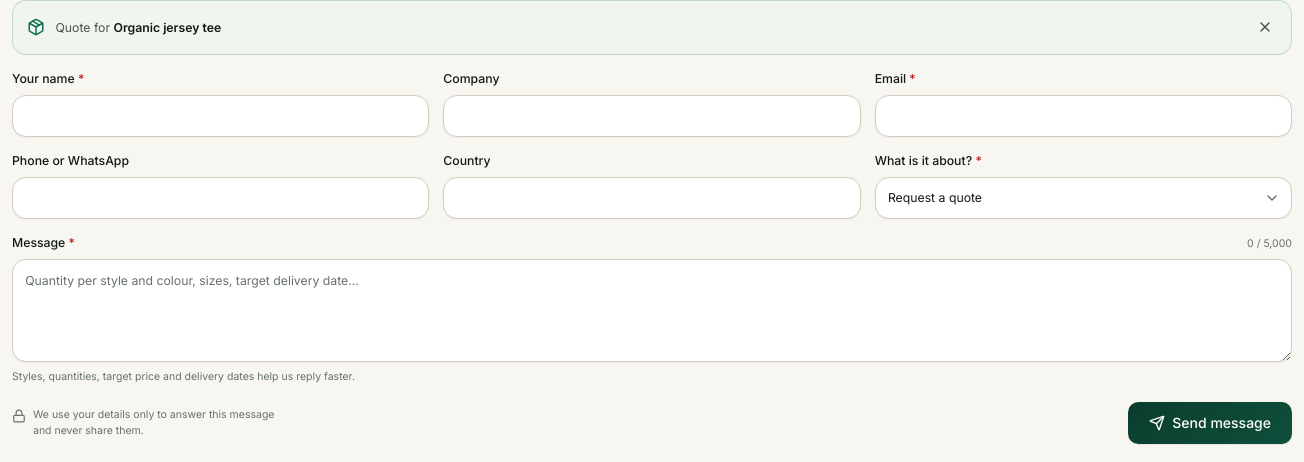
it: ContactForm › sends the message and shows the reference
expect the text "Organic jersey tee" is shown: met, box [114, 20, 221, 35]
Type "Anna Berg" into the field labelled "Your name *" at (221, 116), box [12, 95, 429, 137]
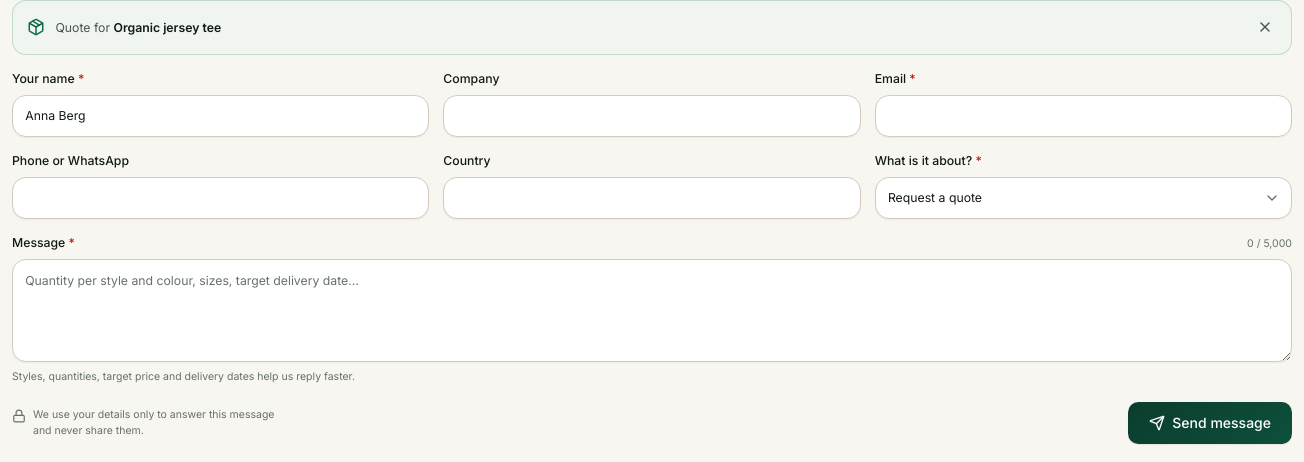
Type "anna@example.com" into the field labelled "Email *" at (1083, 116), box [875, 95, 1292, 137]
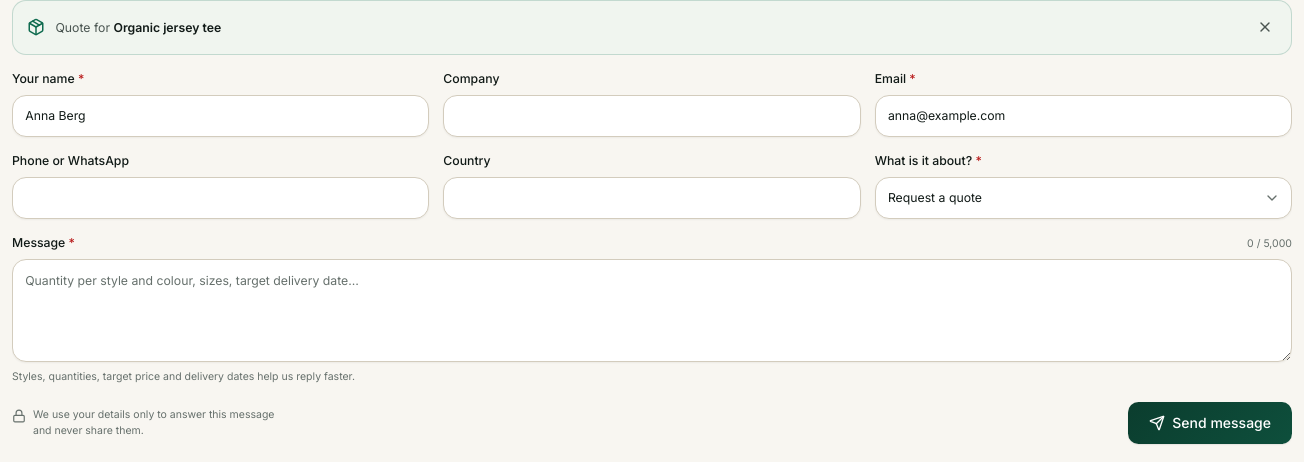
Type "We need 5,000 pcs of the jersey tee by March." into the text box labelled "Message *" at (652, 311), box [12, 259, 1292, 362]
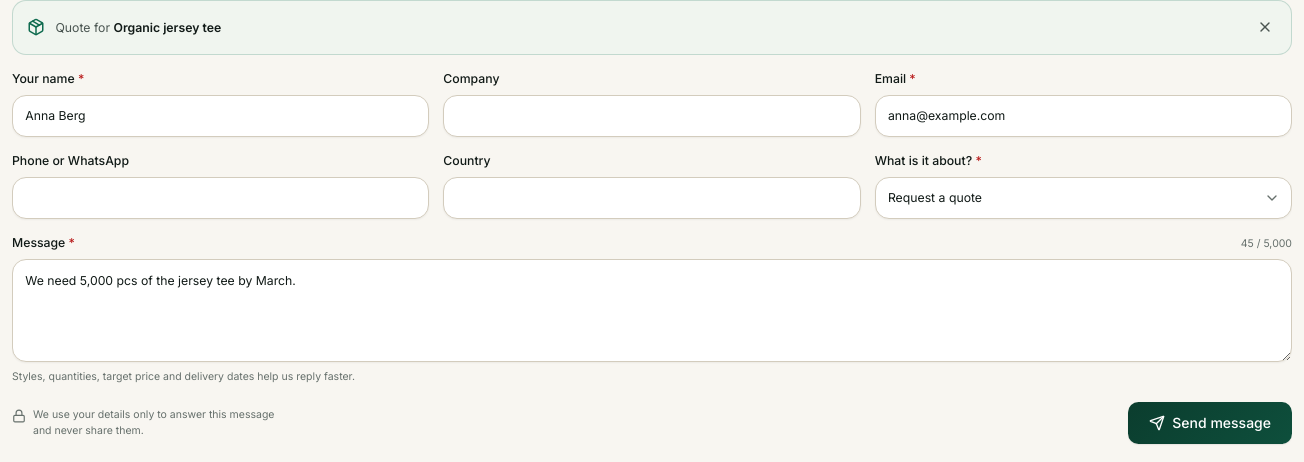
Click the button "Send message" at (1210, 423), box [1128, 402, 1292, 444]
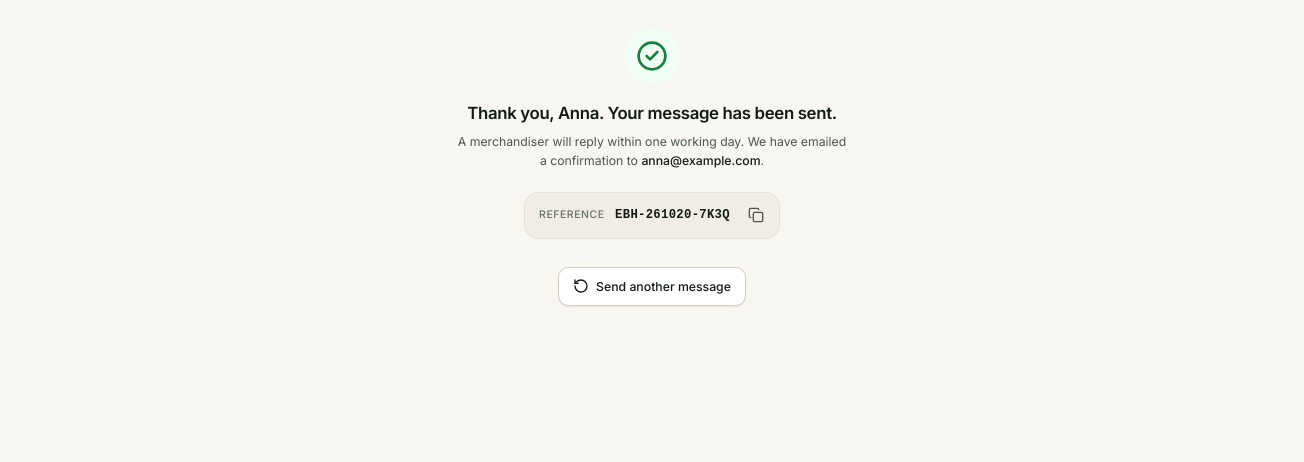
expect the text "EBH-261020-7K3Q" is shown: met, box [615, 206, 730, 225]
expect the heading "Thank you, Anna. Your message has been sent." is shown: met, box [467, 102, 837, 122]
expect the text "anna@example.com" is shown: met, box [641, 153, 761, 168]
